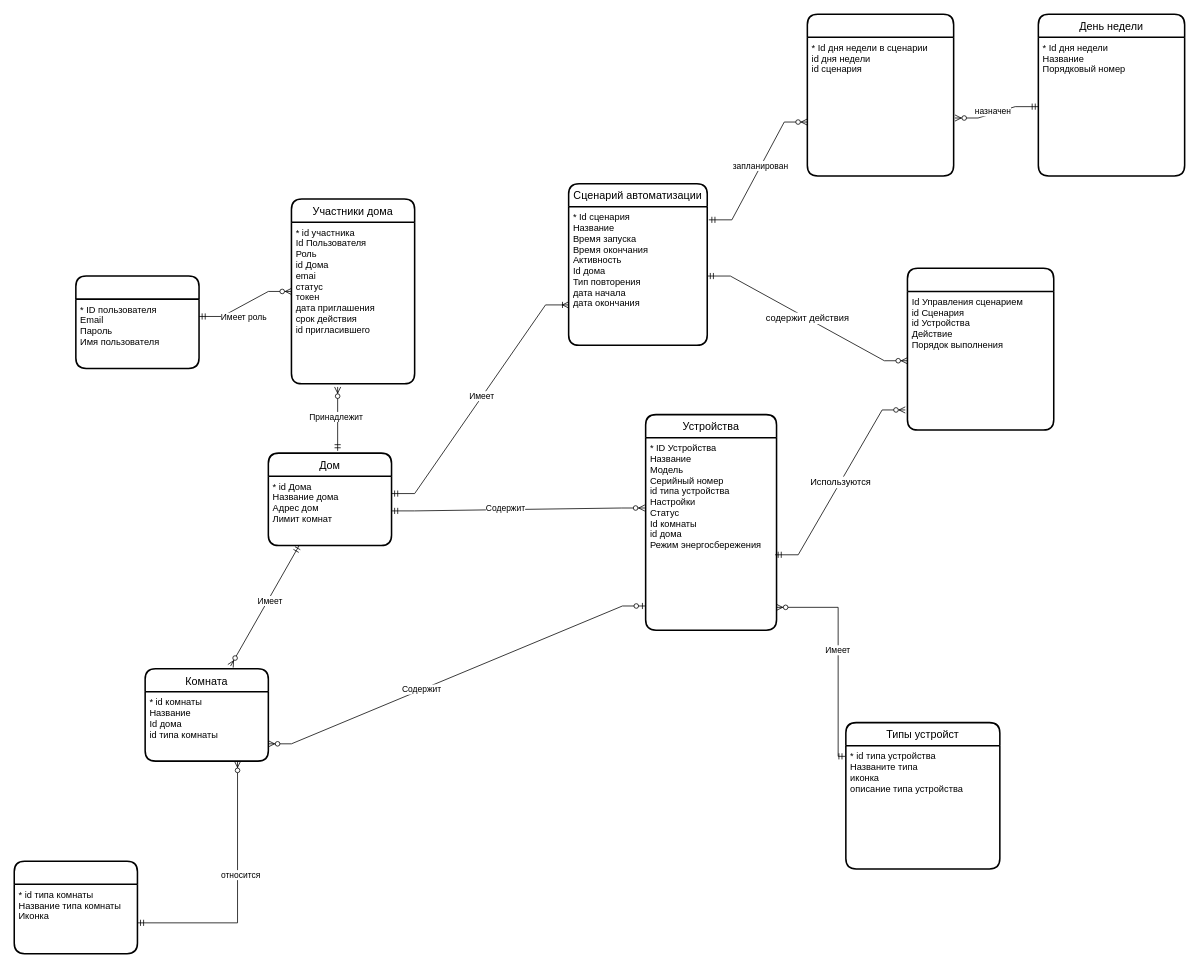
Image size: 1198x967. Some labels were removed from this diagram. Here are the shapes that lost their labels. From the top down, the box of each, then its label:
(806, 13, 954, 176): День недели в сценарии
(75, 275, 199, 369): Пользователь
(906, 267, 1054, 430): Управление сценарием
(13, 860, 138, 954): Типы комнаты
